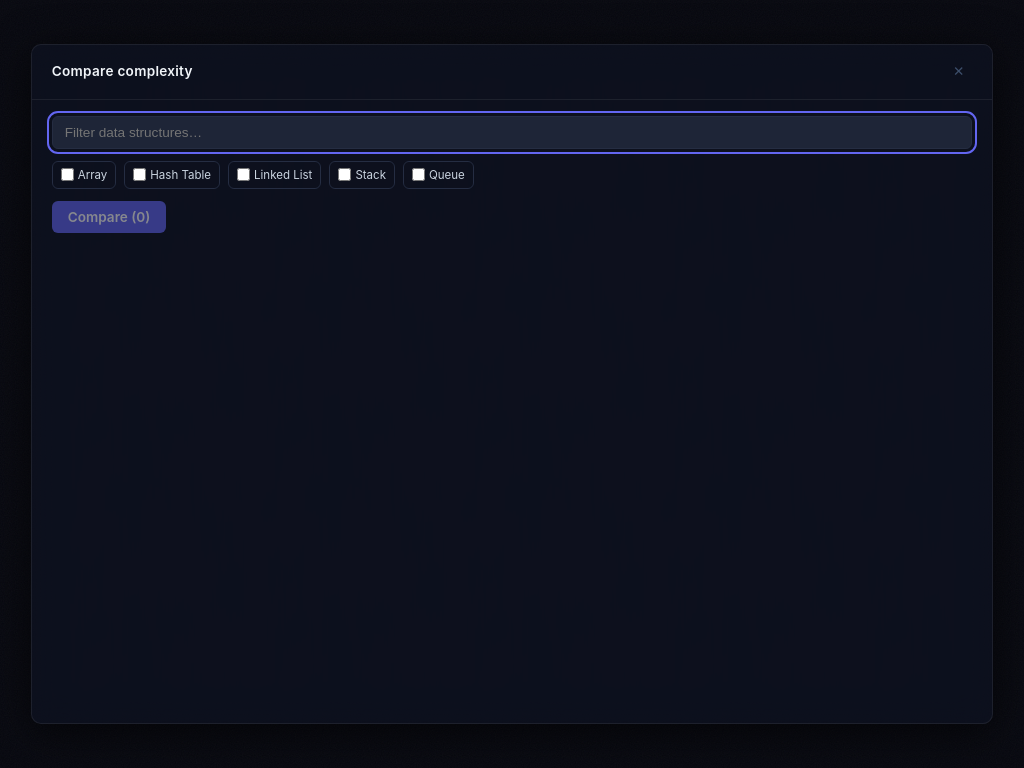
Test case: ComplexityCompare › picking 2 and running Compare renders a merged matrix
The width and height of the screenshot is (1024, 768).
Expected: the text "Array" is shown, top-left (78, 166), bottom-right (107, 184)
Step 1. Click the checkbox labelled "Array" → (67, 175), box top-left (61, 168), bottom-right (74, 182)
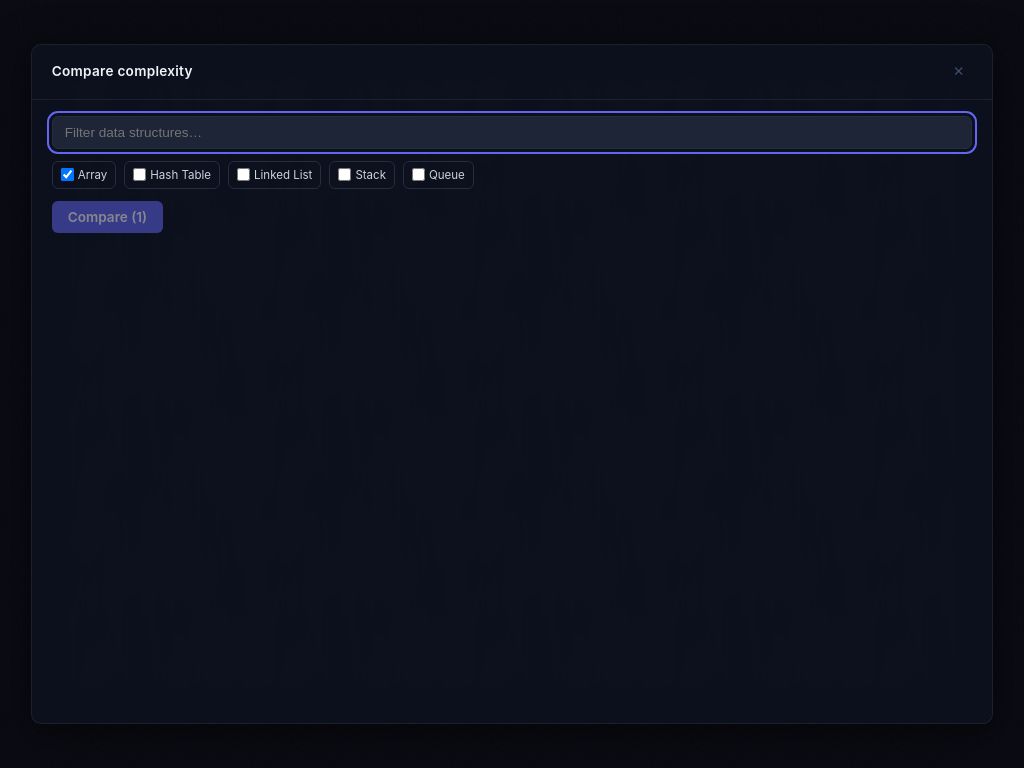
Step 2. Click the checkbox labelled "Hash Table" → (140, 175), box top-left (133, 168), bottom-right (146, 182)
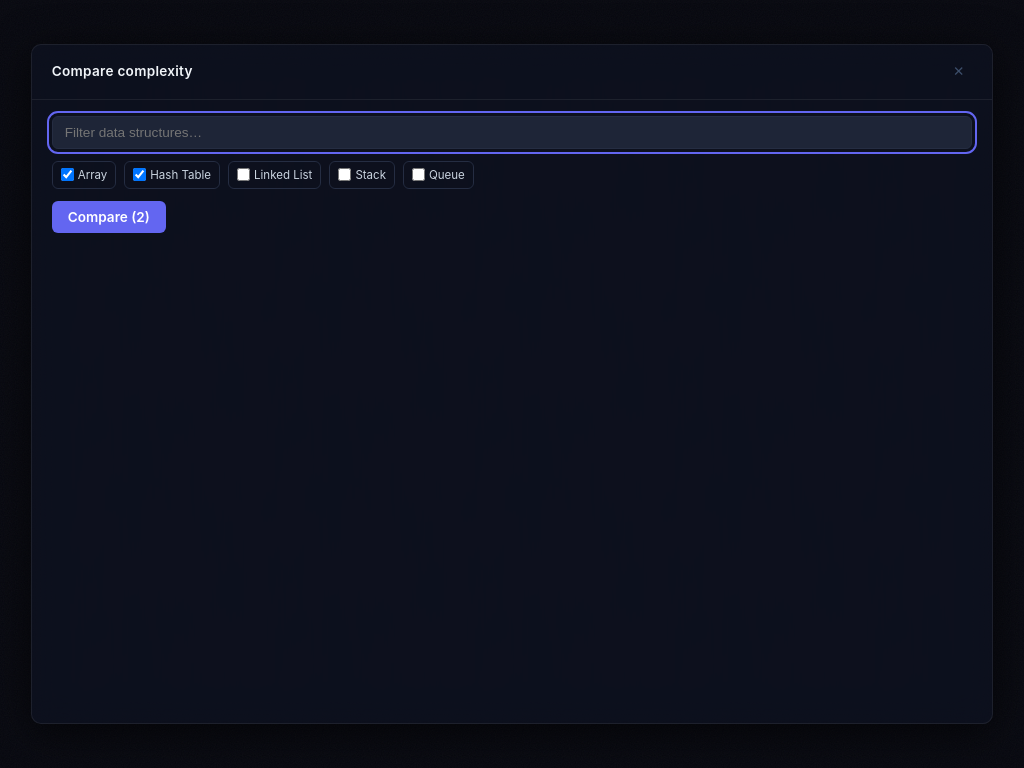
Result: the button "Compare (2)" is enabled
Step 3. Click the button "Compare (2)" → (109, 217), box top-left (52, 201), bottom-right (166, 233)
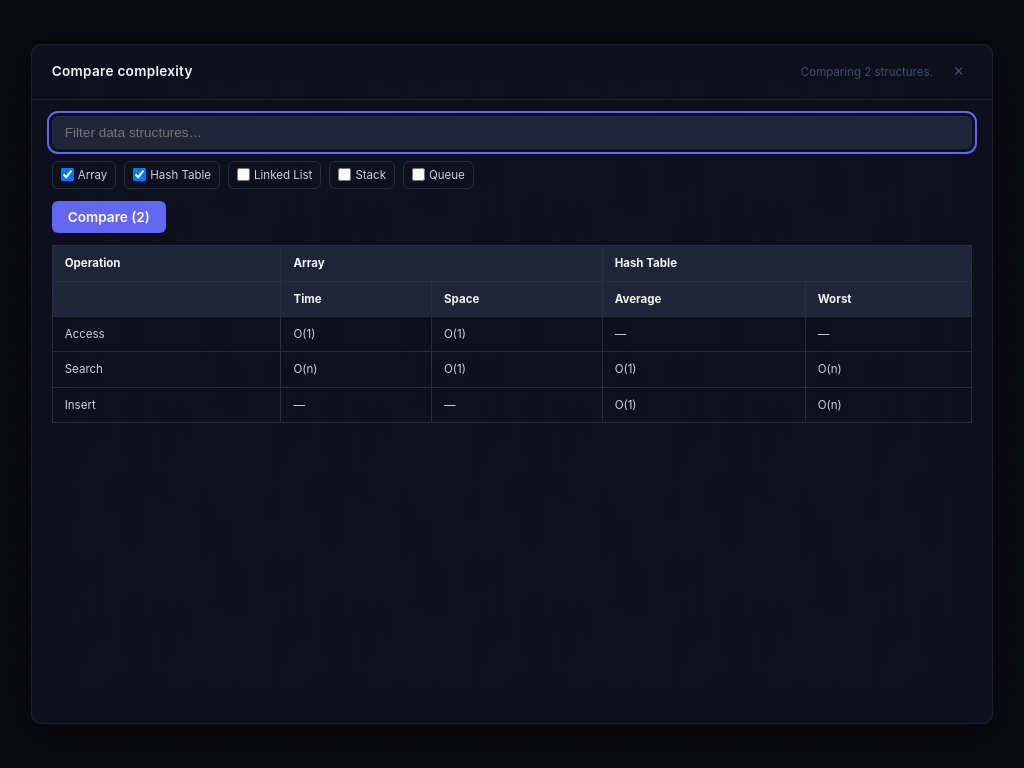
Result: the table is shown at top-left (52, 245), bottom-right (972, 423)
Result: the text "Comparing 2 structures." is shown at top-left (801, 63), bottom-right (933, 81)
Result: the 1st text "O(n)" is shown at top-left (281, 352), bottom-right (432, 387)
